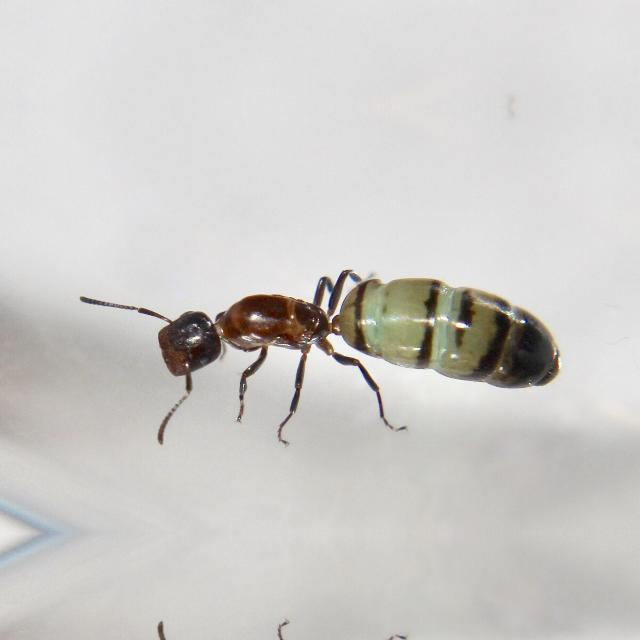Colobopsis: (102, 256, 576, 426)
